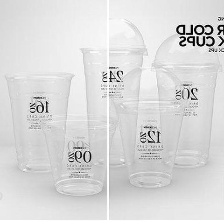glass: (68, 11, 152, 171), (108, 61, 190, 195), (149, 27, 222, 175), (0, 64, 76, 176), (37, 104, 121, 201)
